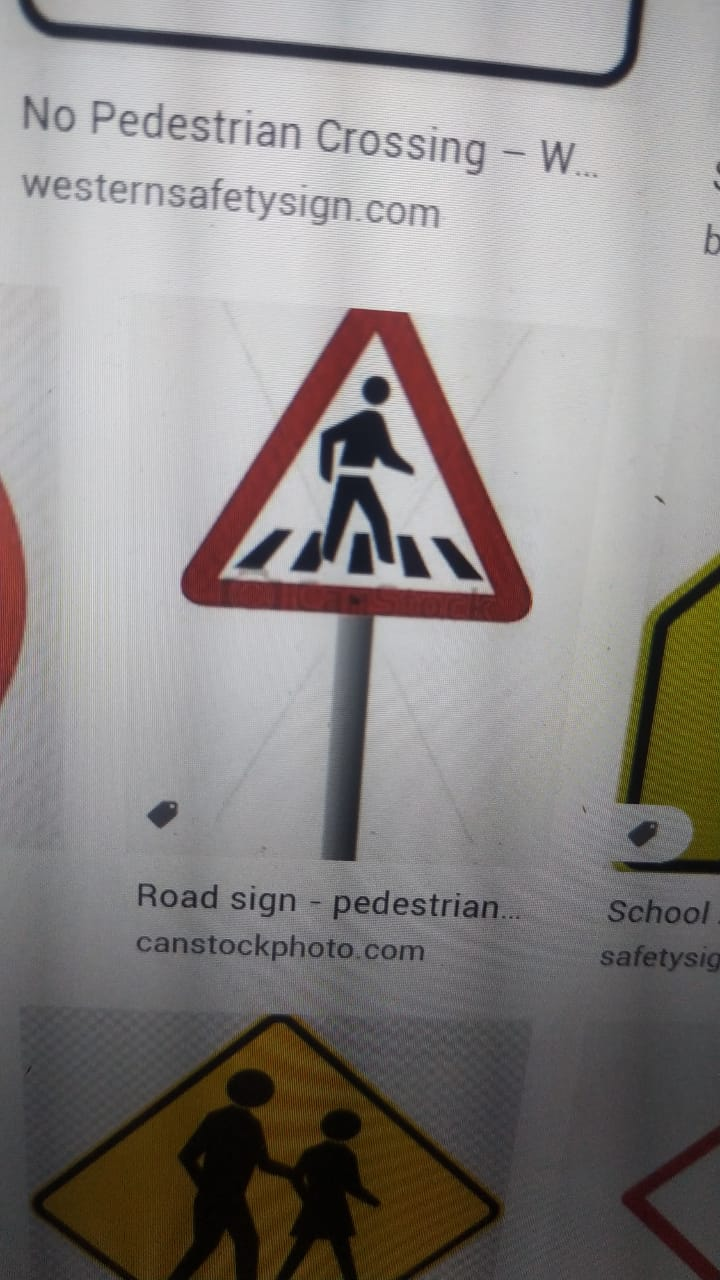PEDESTRIAN CROSSING: (159, 279, 560, 657)
